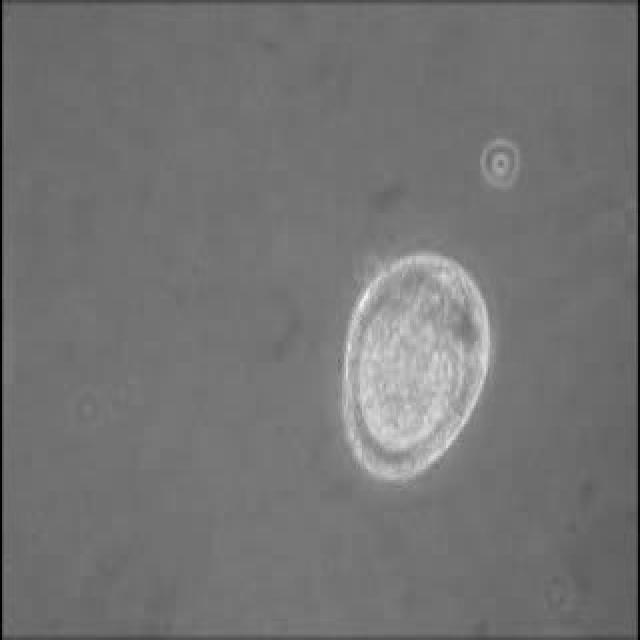Schistosoma: (339, 245, 497, 488)
